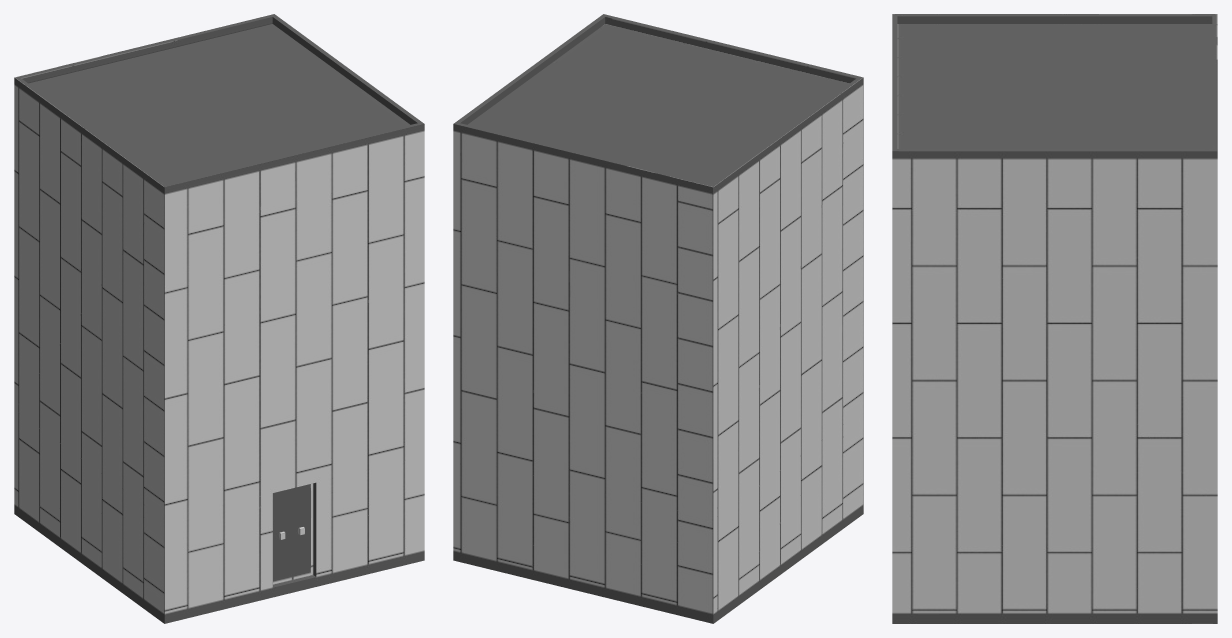
The model's file is BUILDING_CorporateHumor_3.fbx.
3 views of the same model, side by side, from view 1: azimuth 30°, elevation 25°; view 2: azimuth 150°, elevation 25°; view 3: azimuth 270°, elevation 25° (orthographic). The views are drawn at different scales.
Parts seen in each view (by area): view 1: BUILDING_CorporateHumor_3_Baked; view 2: BUILDING_CorporateHumor_3_Baked; view 3: BUILDING_CorporateHumor_3_Baked.
Boxes of the visible parts, x1,y1,x2,y2 form: BUILDING_CorporateHumor_3_Baked: [14, 14, 424, 623]; BUILDING_CorporateHumor_3_Baked: [453, 14, 863, 623]; BUILDING_CorporateHumor_3_Baked: [892, 14, 1217, 623].
Bounding box in the file's own units: 120 × 192 × 120.
1 material, 1 textured.
